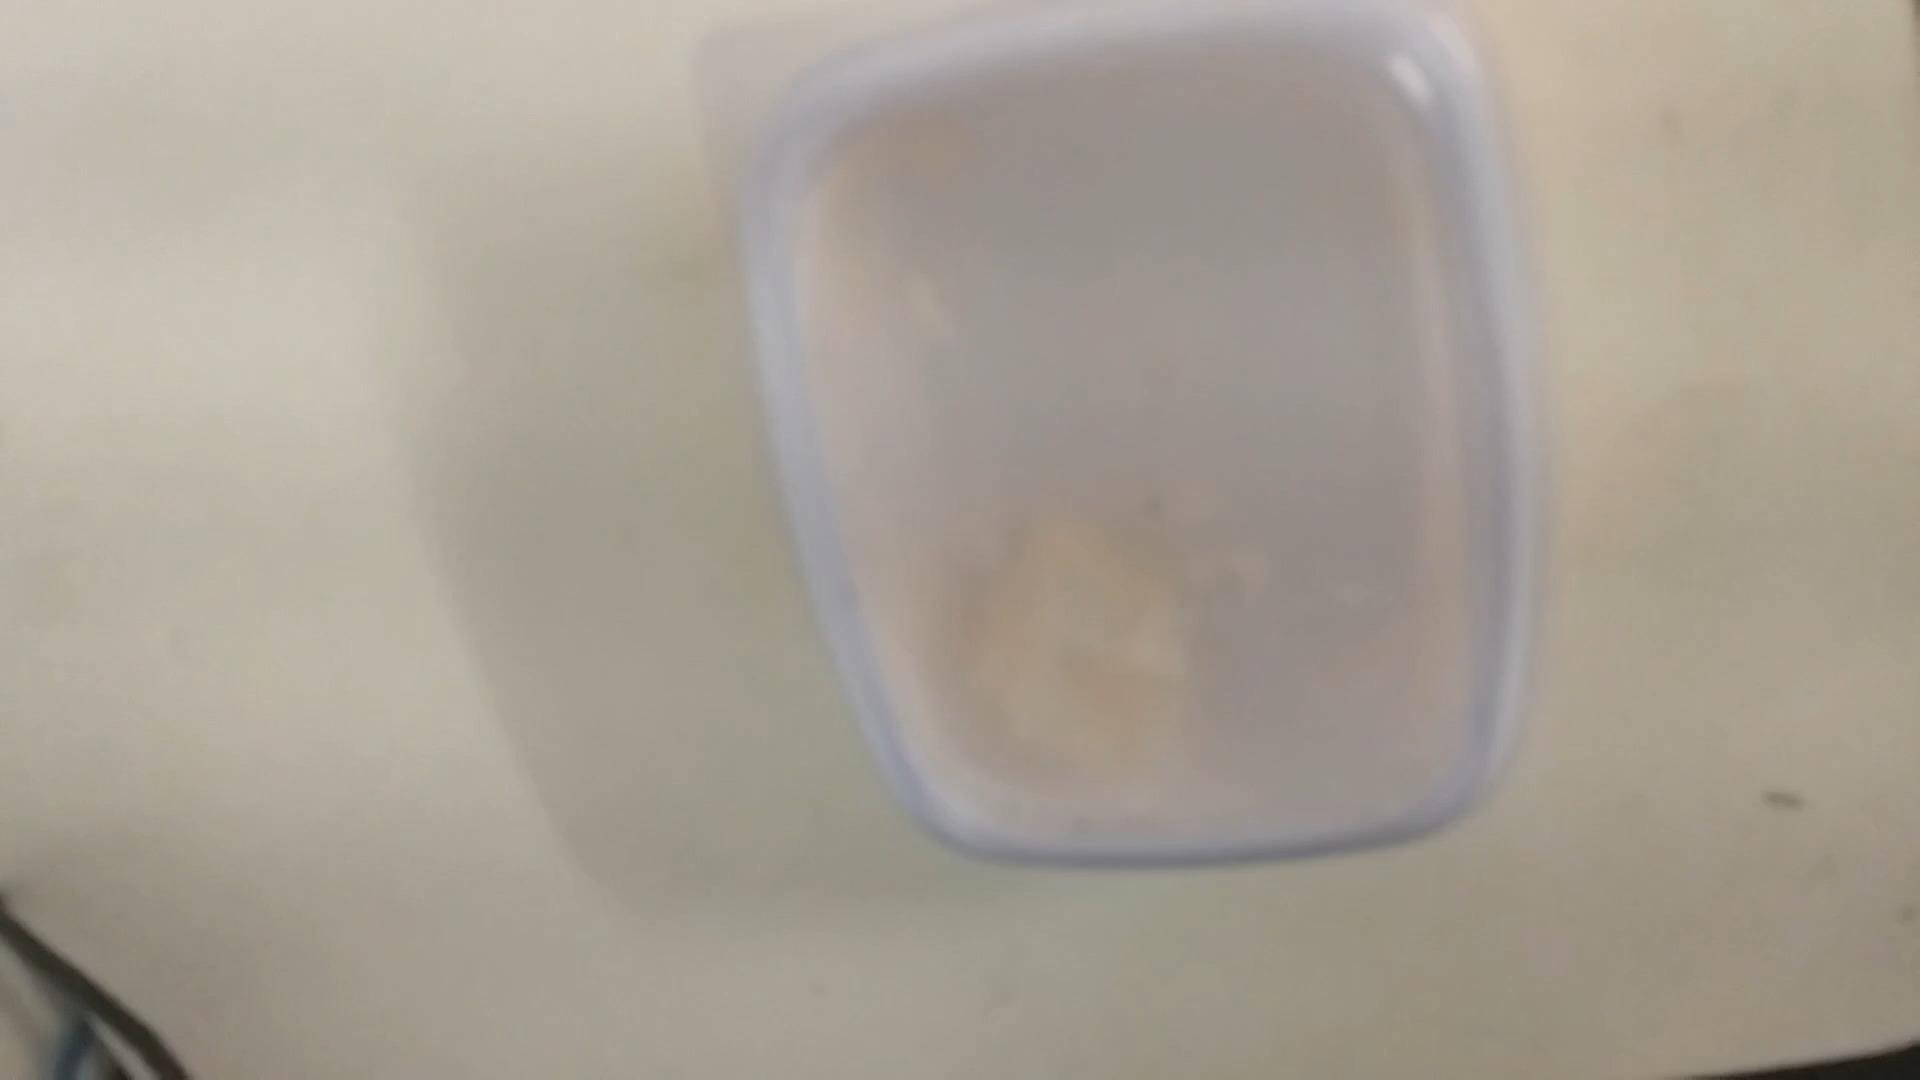butter: (724, 4, 1531, 882)
